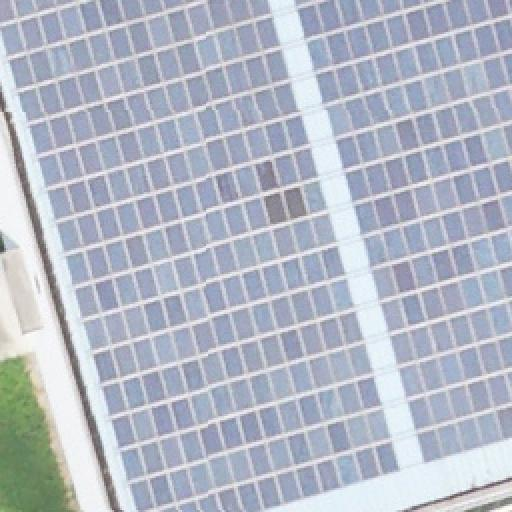solar-panel: (0, 0, 400, 512), (296, 0, 512, 464)
